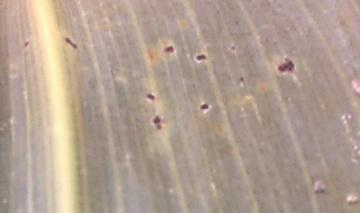tarspot: (277, 57, 293, 75), (64, 37, 78, 50), (194, 53, 207, 63), (152, 116, 162, 126), (145, 93, 156, 101), (199, 103, 210, 111), (314, 187, 326, 194), (346, 200, 360, 206), (164, 45, 174, 53), (229, 43, 237, 52), (24, 41, 30, 48), (156, 125, 163, 131), (240, 75, 245, 83)
